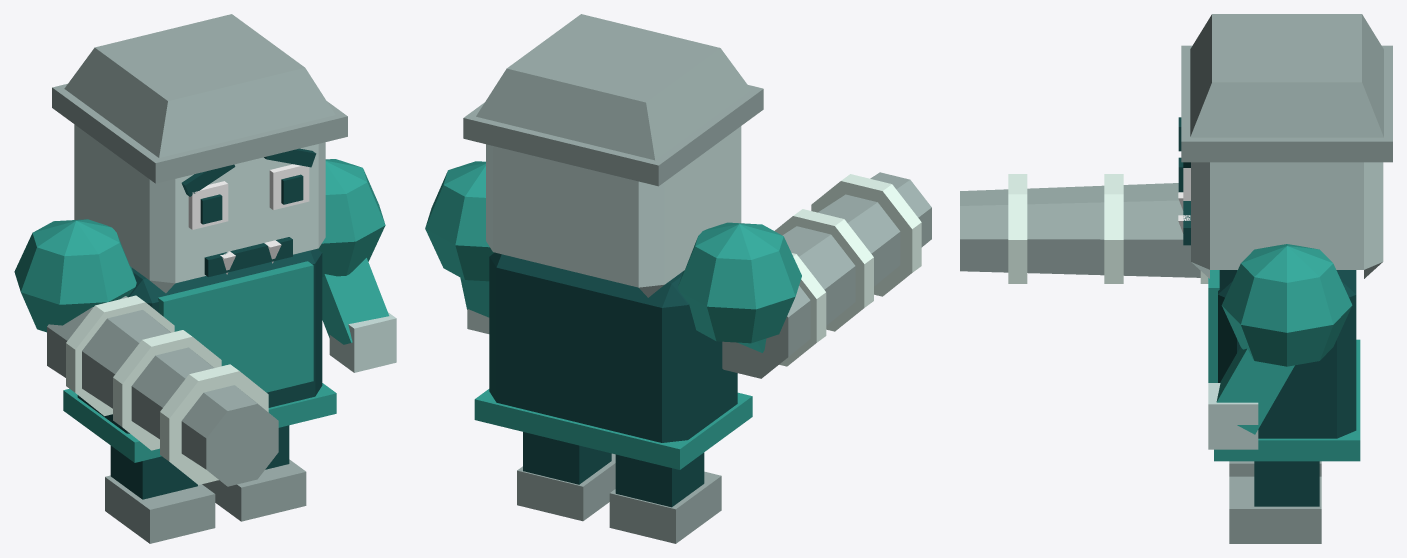
The model's file is breacher_r14.glb.
The picture shows the model from 3 angles, left to right: view 1: azimuth 30°, elevation 25°; view 2: azimuth 150°, elevation 25°; view 3: azimuth 270°, elevation 25°; orthographic projection. The views are drawn at different scales.
Parts seen in each view (by area): view 1: breacher_r14_mesh; view 2: breacher_r14_mesh; view 3: breacher_r14_mesh.
Boxes of the visible parts, x1,y1,x2,y2 form: breacher_r14_mesh: [14, 14, 396, 543]; breacher_r14_mesh: [425, 14, 931, 543]; breacher_r14_mesh: [960, 14, 1392, 543].
Size of the model in its own units: 1.68 by 2 by 1.72.
1 material, 1 textured.
